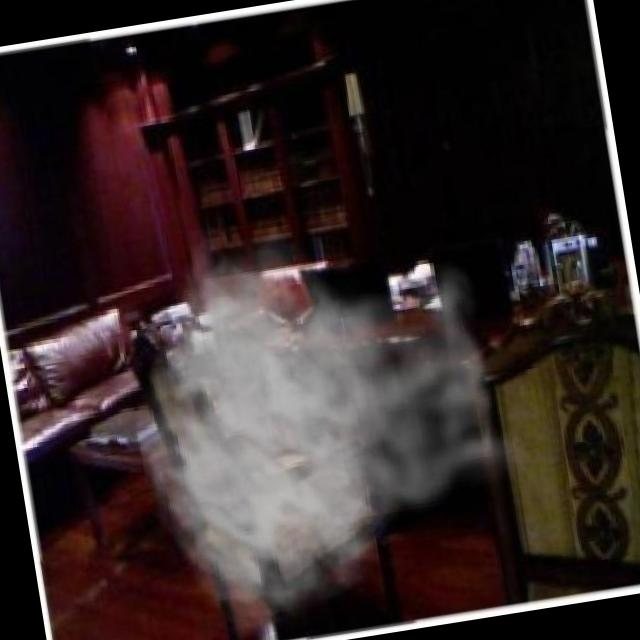Smoke: (142, 240, 514, 600)
